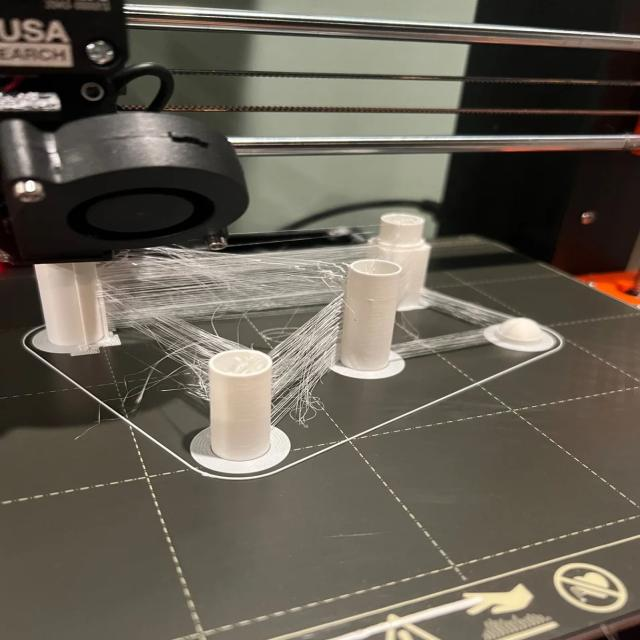Stringing: (237, 250, 309, 305), (142, 314, 216, 360), (282, 326, 325, 402), (170, 243, 223, 295), (412, 328, 472, 365), (104, 253, 156, 295), (439, 290, 496, 314)
